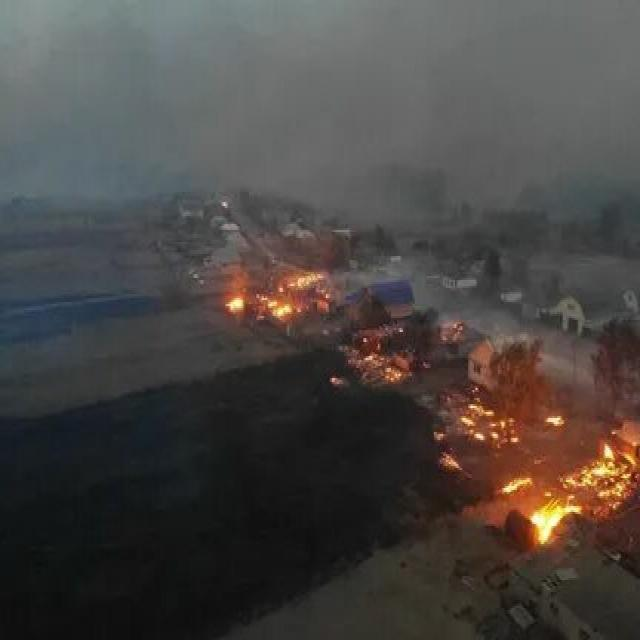Fire: (440, 359, 640, 580), (204, 254, 349, 347)
